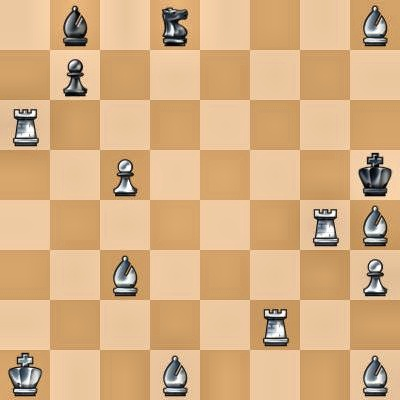black-bishop: (50, 0, 100, 50)
black-king: (350, 150, 400, 200)
black-knight: (150, 0, 200, 50)
black-pawn: (50, 50, 100, 100)
white-bishop: (350, 0, 400, 50), (350, 200, 400, 250), (100, 250, 150, 300), (150, 350, 200, 400), (350, 350, 400, 400)
white-king: (0, 350, 50, 400)
white-pawn: (100, 150, 150, 200), (350, 250, 400, 300)
white-rook: (0, 100, 50, 150), (300, 200, 350, 250), (250, 300, 300, 350)
